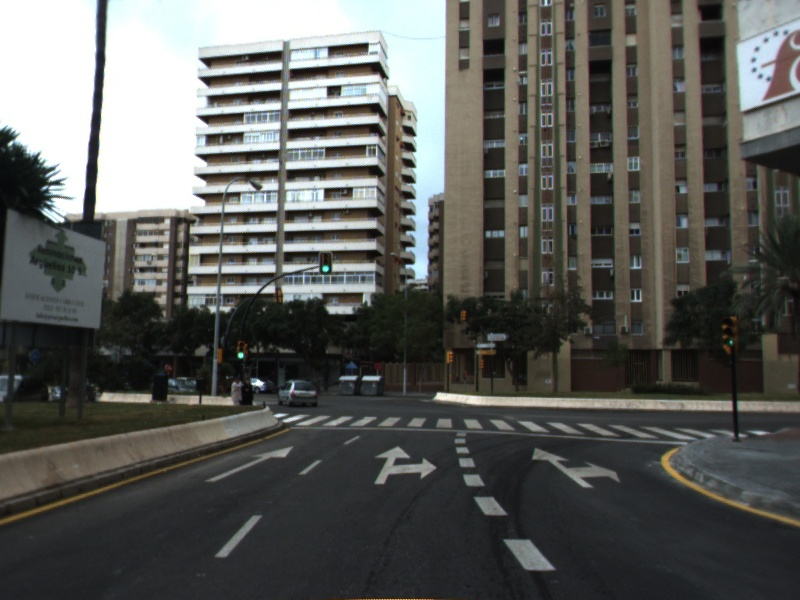STRAIGHT: (203, 444, 295, 484)
STRAIGHT_RIGHT: (531, 446, 623, 489), (372, 443, 439, 486)
